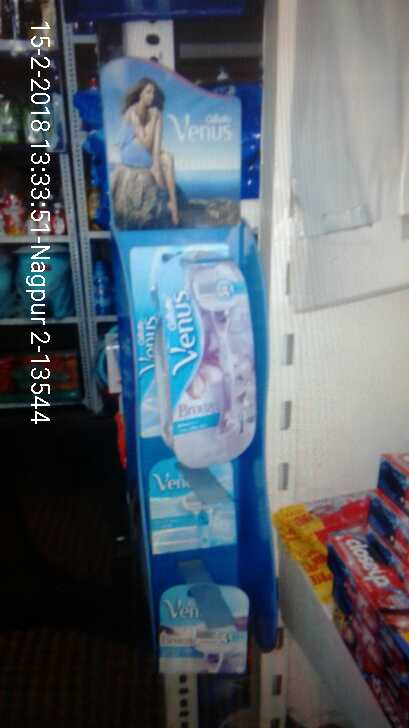venus: (151, 256, 258, 463), (149, 462, 241, 553)
